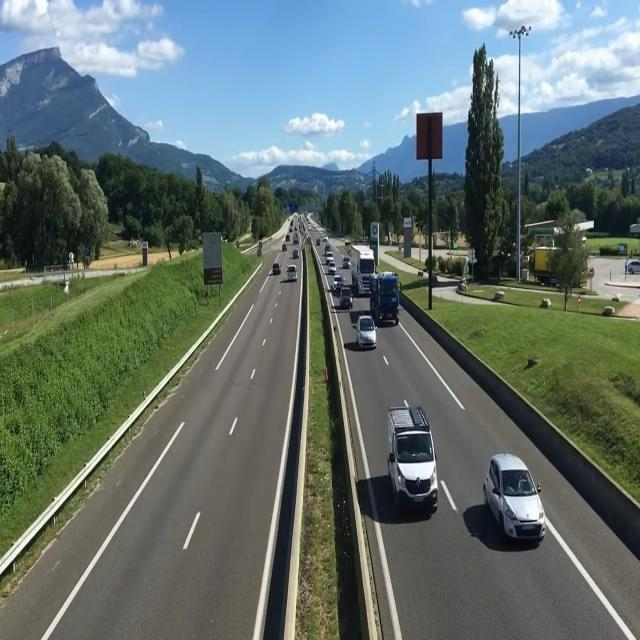Car: (484, 451, 547, 544), (352, 315, 378, 349), (623, 256, 640, 275), (339, 287, 354, 308), (332, 274, 344, 290), (286, 265, 297, 282), (342, 257, 352, 270), (272, 263, 281, 274), (325, 251, 334, 262), (328, 262, 336, 274)
Truck: (524, 247, 590, 287), (370, 270, 403, 322), (350, 242, 377, 294)
Van: (384, 404, 439, 514)
